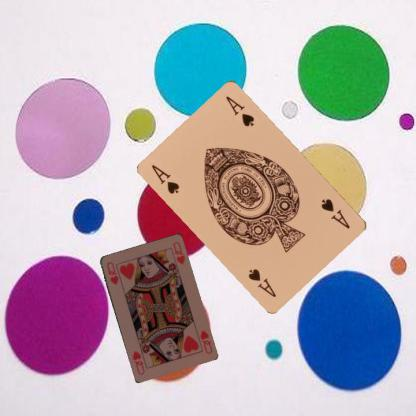As: (319, 196, 352, 230), (149, 162, 181, 196)
Qh: (197, 327, 213, 354), (104, 259, 119, 286)
